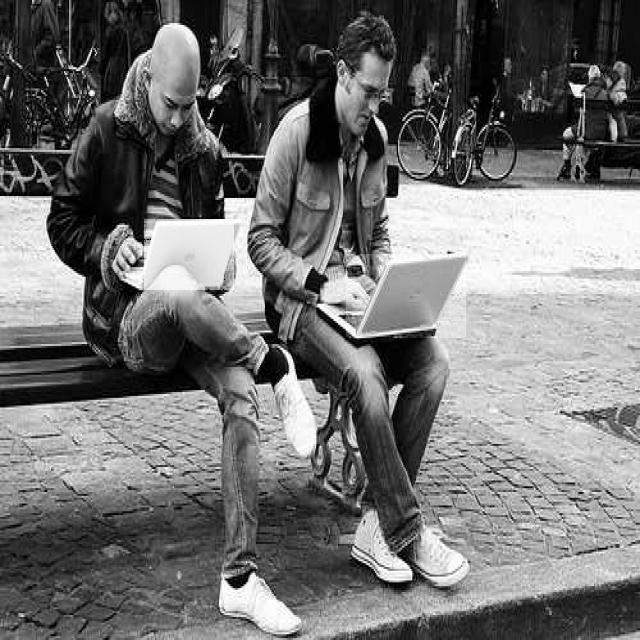-keyboard-: (346, 254, 466, 338), (144, 219, 234, 290)
